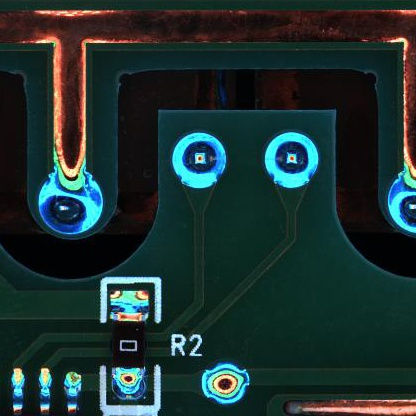spot: (37, 173, 104, 236), (171, 132, 227, 192), (264, 130, 320, 188), (200, 363, 251, 405)
